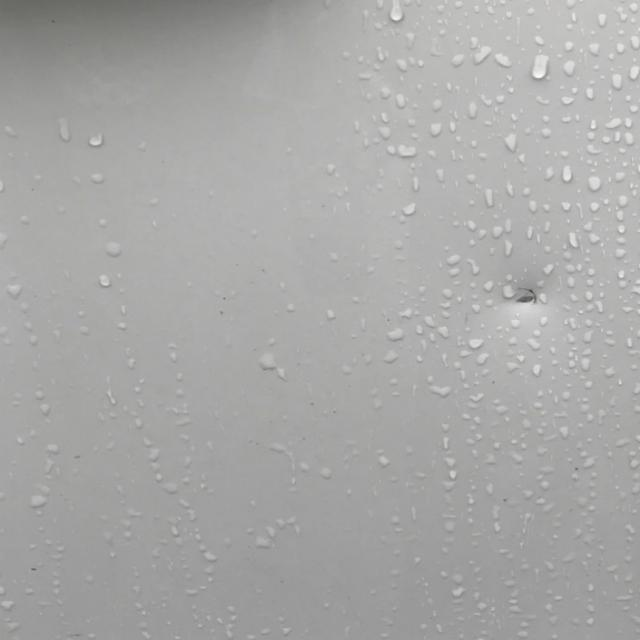dents: (464, 214, 616, 382)
